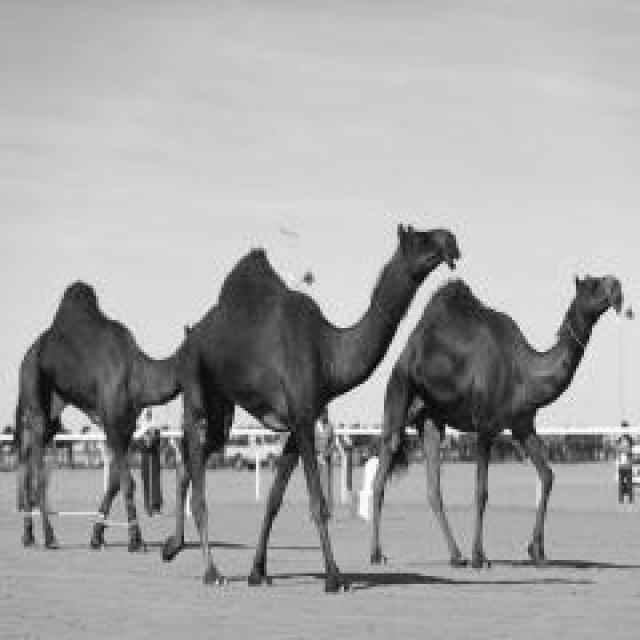Camel: (160, 221, 461, 592), (368, 272, 621, 568), (8, 277, 189, 552)
